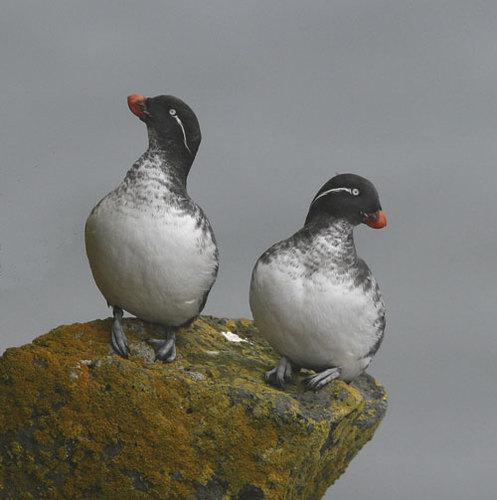007.Parakeet_Auklet: (84, 89, 221, 364), (250, 174, 389, 390)
